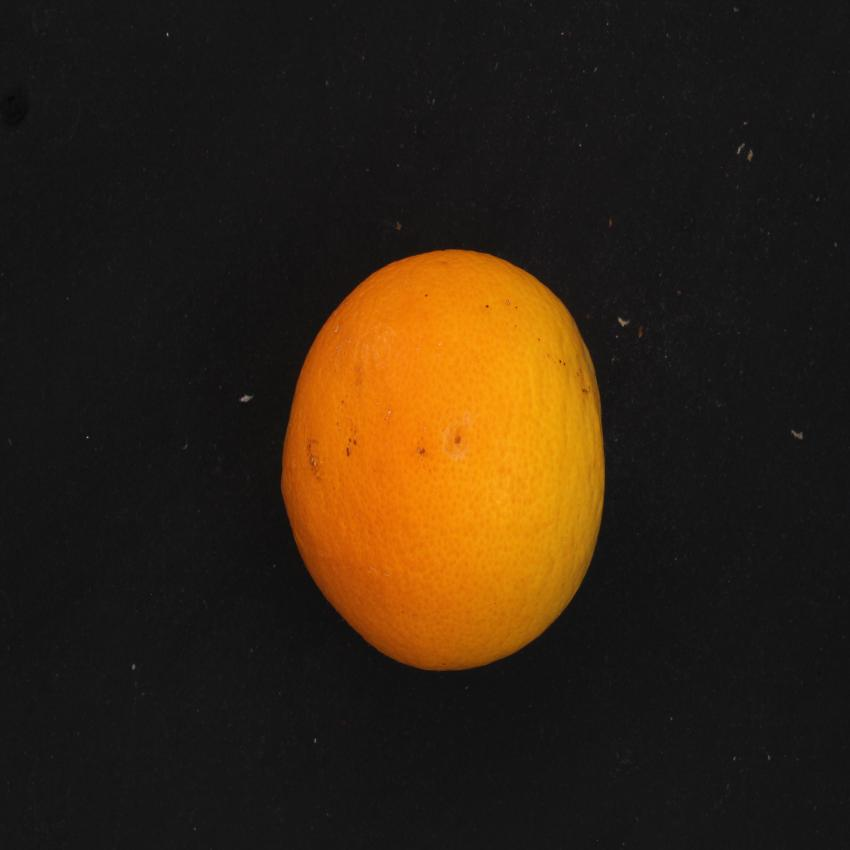Buen estado: (269, 240, 638, 685)
